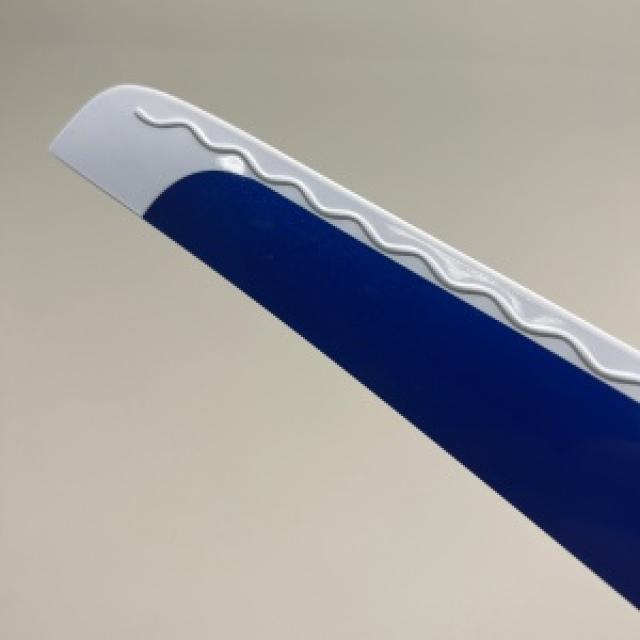healthy: (49, 83, 638, 606)
